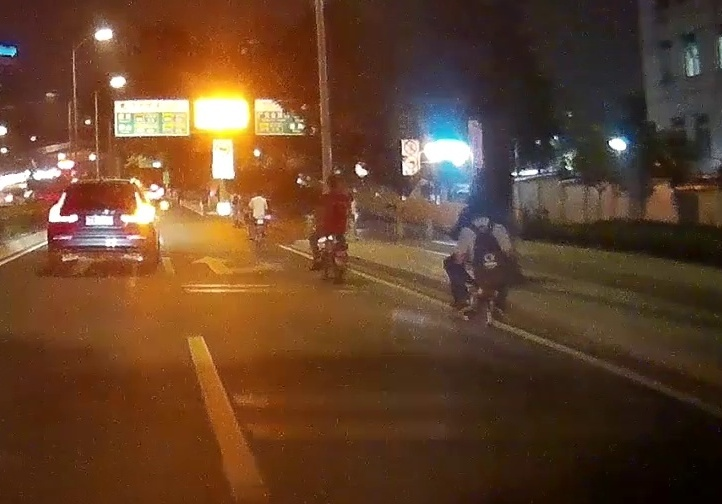L_light: (49, 192, 78, 224)
R_light: (121, 192, 151, 224)
T_light: (92, 183, 106, 187)
night-right: (48, 179, 156, 273)
